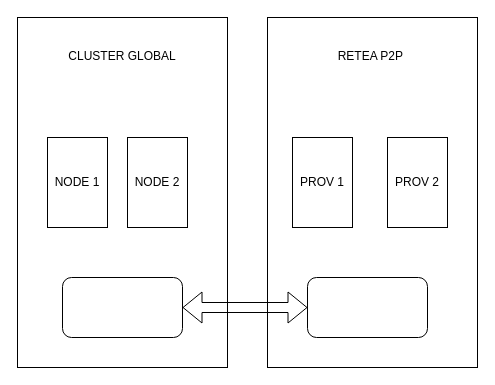
The diagram is 495 pixels wide and 385 high, and some of its shapes have lost their labels. The shapes that lost their labels are listed below. From the top down, each one's centre as x and y in pixels, then its label:
the point at 122,307: IPFS CLUSTER
the point at 367,307: IPFS SWARM KEY
